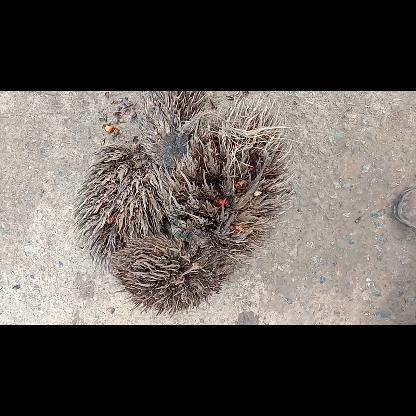Janjang kosong: (154, 91, 294, 264), (73, 143, 169, 271), (111, 230, 231, 316), (136, 91, 207, 167)
